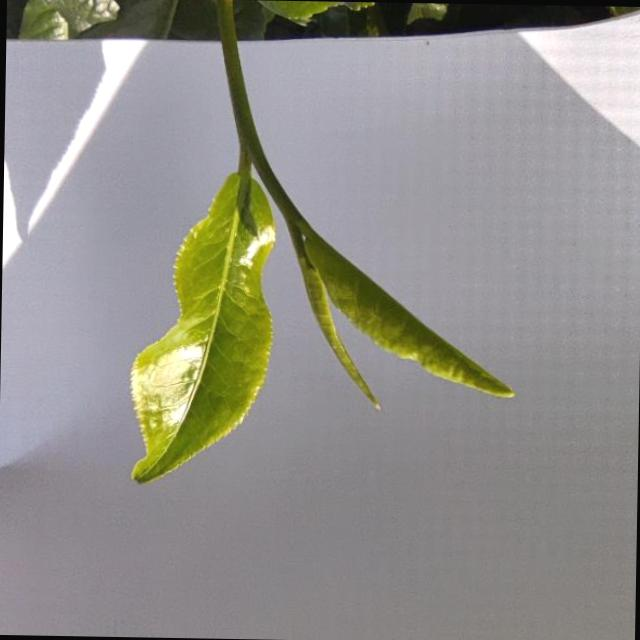Stem: (236, 128, 262, 154)
